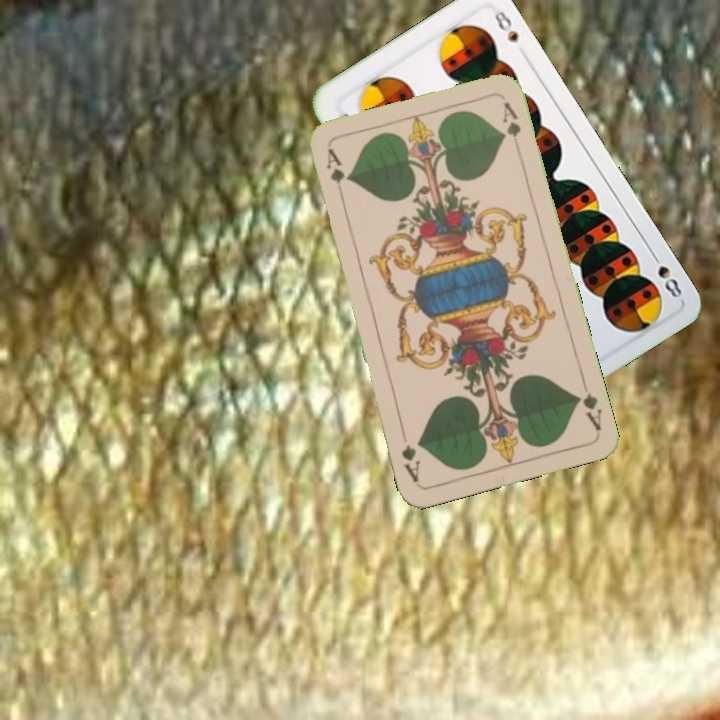GA: (571, 376, 604, 433), (322, 144, 347, 203)
S8: (646, 247, 685, 301)
